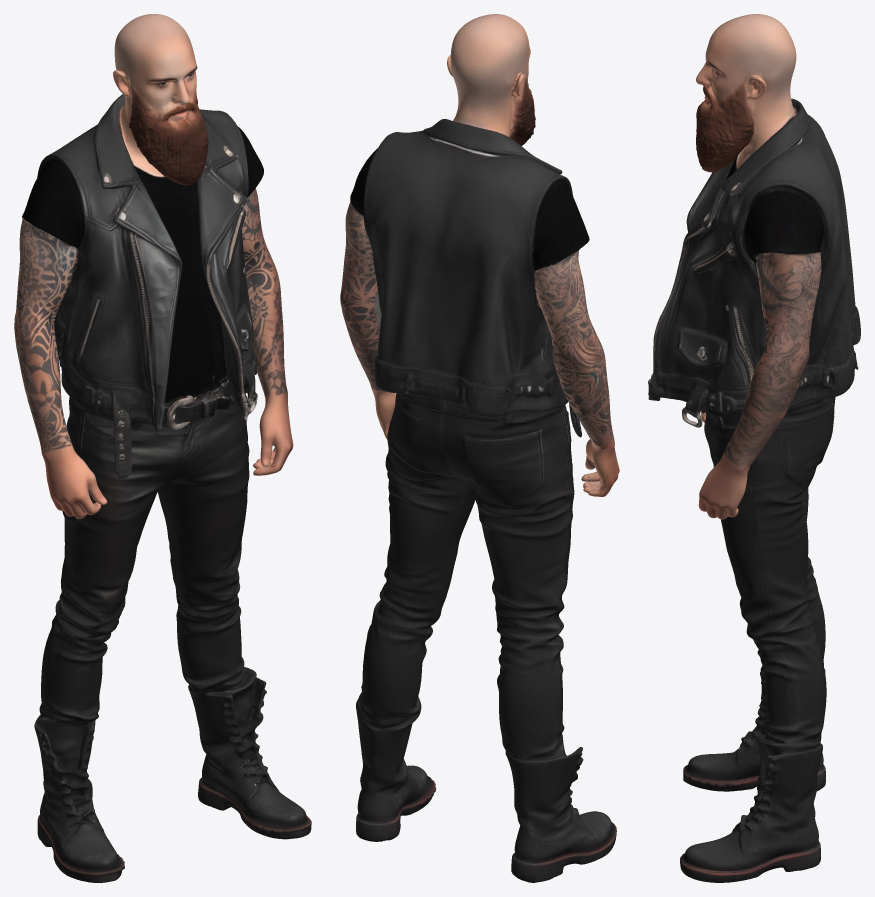
The model's file is rebel.glb.
3 renders of one model, left to right at view 1: azimuth 30°, elevation 25°; view 2: azimuth 150°, elevation 25°; view 3: azimuth 270°, elevation 25°, orthographic. The views are drawn at different scales.
Visible parts, largest first — view 1: Object_7, Object_5, Object_6; view 2: Object_6, Object_5, Object_7; view 3: Object_5, Object_6, Object_7.
Part boxes in pixels (x1,y1,x2,y2): Object_7: (30, 26, 311, 882); Object_5: (14, 14, 311, 882); Object_6: (14, 51, 287, 859); Object_6: (340, 47, 615, 882); Object_5: (340, 14, 616, 882); Object_7: (372, 16, 619, 851); Object_5: (648, 14, 829, 882); Object_6: (722, 76, 860, 877); Object_7: (680, 22, 763, 882).
Size of the model in its own units: 0.616 by 1.9 by 0.4555.
Materials: 1 (1 with a texture image).
